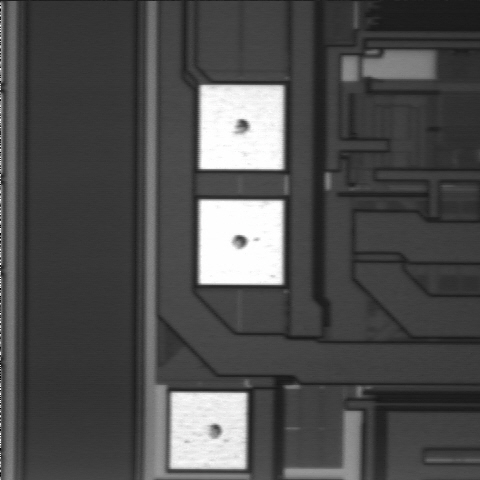pad: (199, 200, 283, 285), (199, 85, 283, 169), (170, 393, 247, 469)
